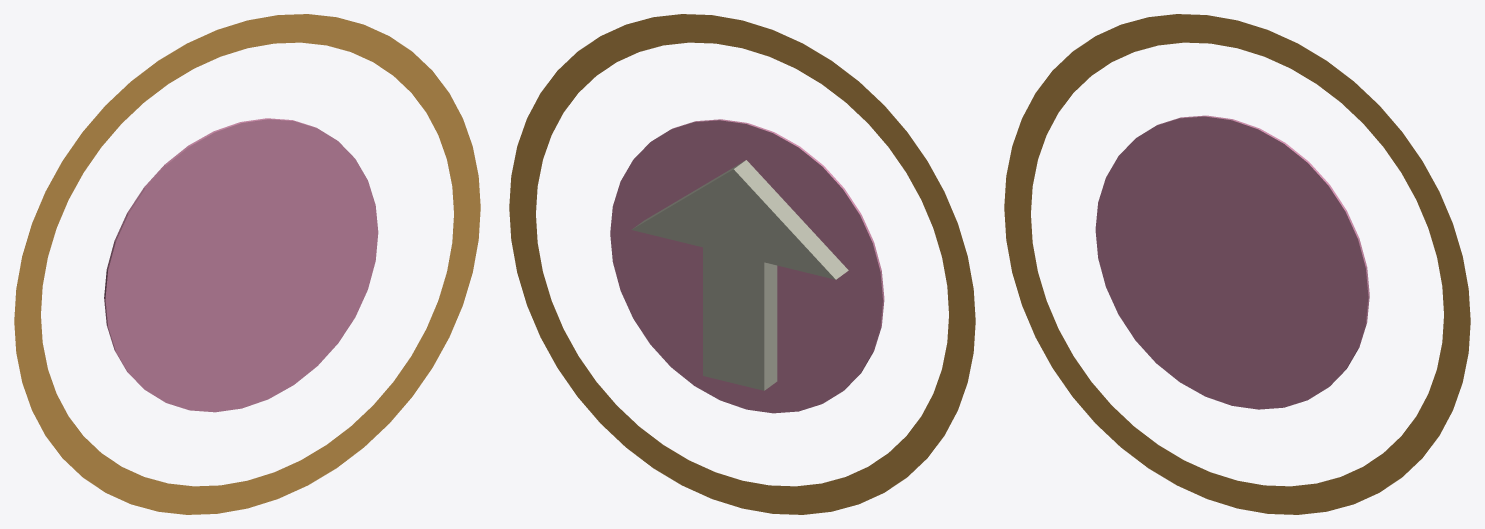
File: hotspot-marker-arrow-disc.glb
The picture shows the model from 3 angles, left to right: view 1: azimuth 30°, elevation 25°; view 2: azimuth 150°, elevation 25°; view 3: azimuth 330°, elevation 25°; orthographic projection.
Parts seen in each view (by area): view 1: Mesh_Mesh_head_geo.001_lambert2SG.001; view 2: Mesh_Mesh_head_geo.001_lambert2SG.001; view 3: Mesh_Mesh_head_geo.001_lambert2SG.001.
Boxes of the visible parts, bbox=[...] form: Mesh_Mesh_head_geo.001_lambert2SG.001: bbox=[14, 14, 480, 514]; Mesh_Mesh_head_geo.001_lambert2SG.001: bbox=[509, 14, 975, 514]; Mesh_Mesh_head_geo.001_lambert2SG.001: bbox=[1004, 14, 1470, 514].
Size of the model in its own units: 0.105 by 0.105 by 0.00561.
